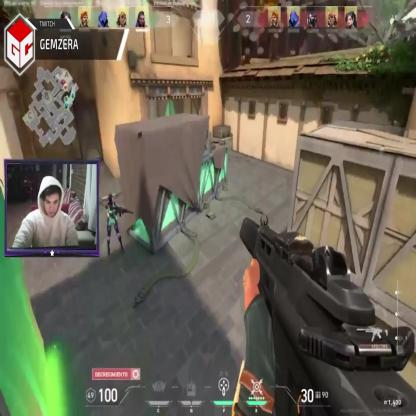enemy: (105, 193, 123, 254)
enemy_head: (108, 193, 114, 206)
